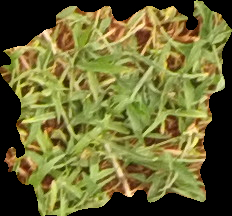grass: (1, 1, 231, 215)
